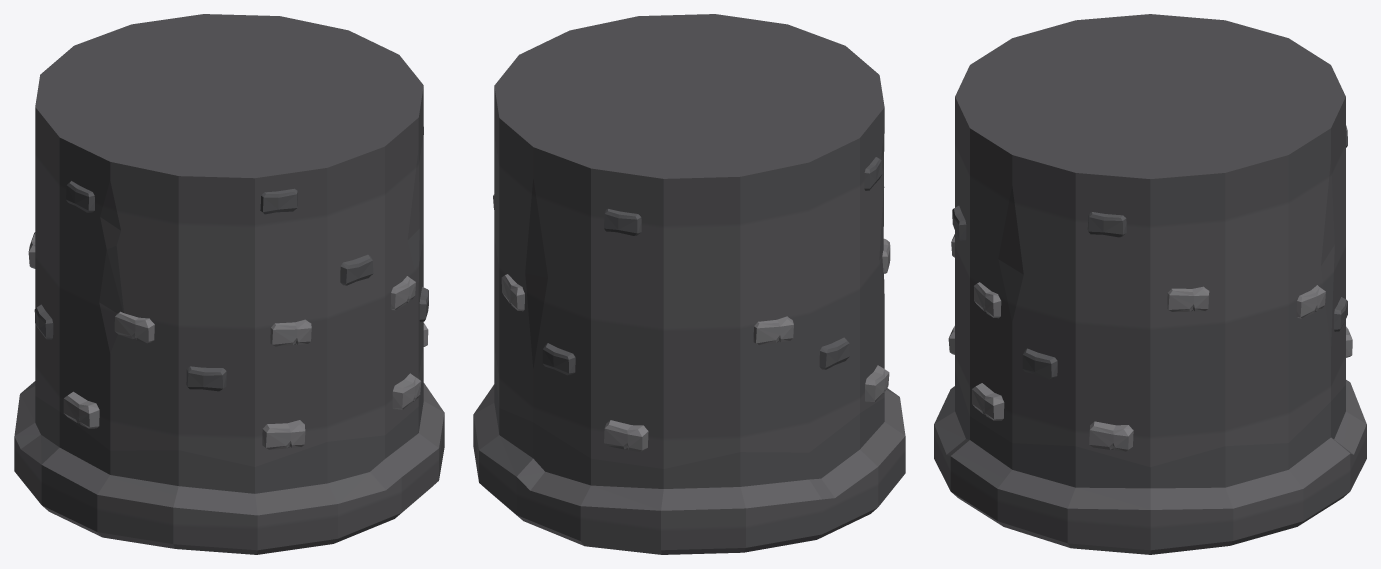
The model's file is SM_Bld_Castle_Tower_Round_01.gltf.
3 views of the same model, side by side, from view 1: azimuth 30°, elevation 25°; view 2: azimuth 150°, elevation 25°; view 3: azimuth 270°, elevation 25° (orthographic).
Visible parts, largest first — view 1: SM_Bld_Castle_Tower_Round_01; view 2: SM_Bld_Castle_Tower_Round_01; view 3: SM_Bld_Castle_Tower_Round_01.
Part boxes in pixels (x1,y1,x2,y2): SM_Bld_Castle_Tower_Round_01: [14, 14, 444, 554]; SM_Bld_Castle_Tower_Round_01: [473, 14, 905, 554]; SM_Bld_Castle_Tower_Round_01: [934, 14, 1366, 554].
Bounding box in the file's own units: 3.17 × 3 × 3.17.
1 material, 1 textured.
